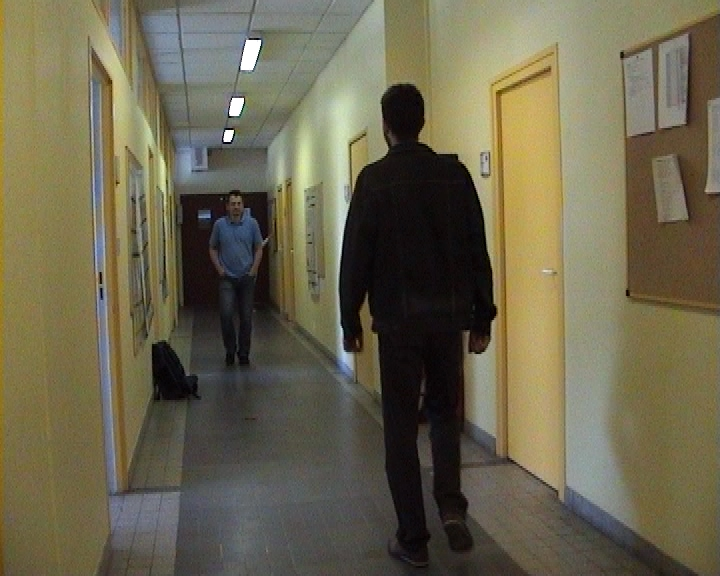leave bag unattended: (136, 315, 210, 419)
